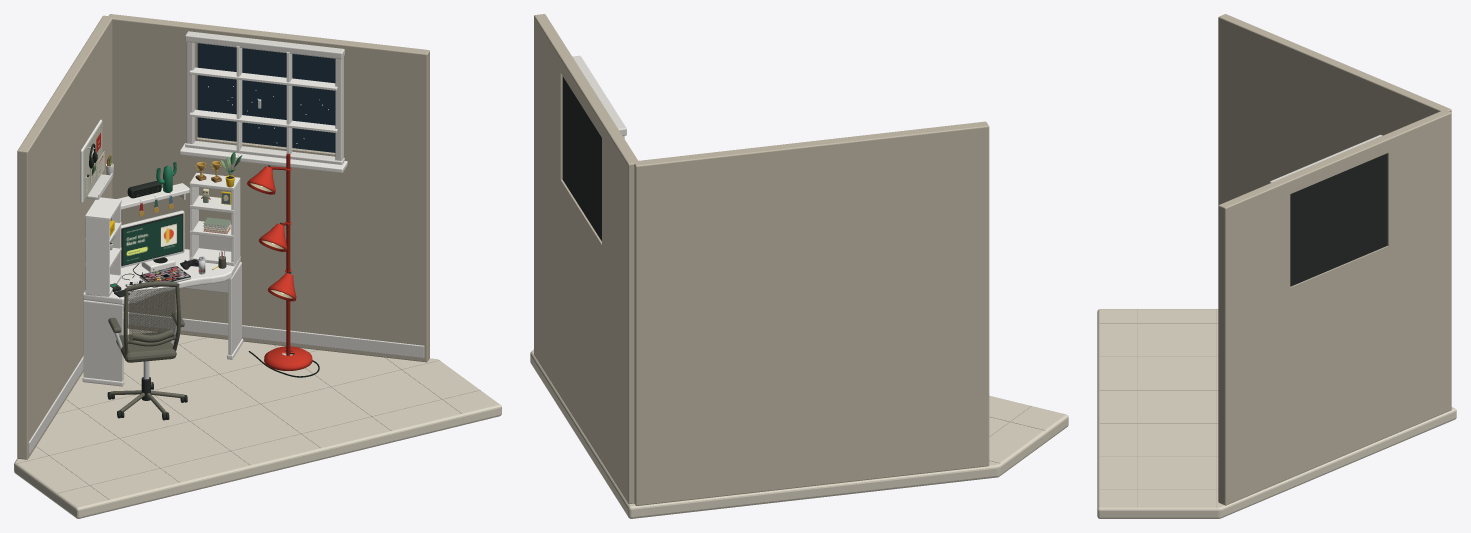
File: workspace-saved.glb
3 views of the same model, side by side, from view 1: azimuth 30°, elevation 25°; view 2: azimuth 150°, elevation 25°; view 3: azimuth 270°, elevation 25° (orthographic). The views are drawn at different scales.
Visible parts, largest first — view 1: _static · Limewashed plaster, Room floor, window_glass, _static · Warm powder-coated white, chair · Chair woven frame, window · Porcelain edges, window · Warm powder-coated white, workspace_left_wing · Porcelain edges, _static · Porcelain edges, workspace_right_wing · Porcelain edges, monitor_screen, Chair breathable mesh (+4 smaller); view 2: _static · Limewashed plaster, Room floor, Window deep recess, window · Warm powder-coated white; view 3: _static · Limewashed plaster, Room floor, Window deep recess, _static · Tile grout.
Part boxes in pixels (left/top/right/bottom): _static · Limewashed plaster: left=17, top=14, right=429, bottom=459; Room floor: left=14, top=328, right=501, bottom=518; window_glass: left=198, top=43, right=335, bottom=152; _static · Warm powder-coated white: left=28, top=194, right=424, bottom=454; chair · Chair woven frame: left=108, top=281, right=184, bottom=414; window · Porcelain edges: left=180, top=46, right=347, bottom=172; window · Warm powder-coated white: left=185, top=31, right=344, bottom=164; workspace_left_wing · Porcelain edges: left=80, top=119, right=121, bottom=296; _static · Porcelain edges: left=82, top=183, right=243, bottom=386; workspace_right_wing · Porcelain edges: left=189, top=172, right=240, bottom=266; monitor_screen: left=123, top=215, right=182, bottom=264; Chair breathable mesh: left=129, top=287, right=175, bottom=340; _static · Limewashed plaster: left=534, top=14, right=989, bottom=505; Room floor: left=530, top=350, right=1068, bottom=518; Window deep recess: left=562, top=76, right=601, bottom=241; window · Warm powder-coated white: left=572, top=55, right=626, bottom=138; _static · Limewashed plaster: left=1218, top=14, right=1451, bottom=505; Room floor: left=1097, top=309, right=1456, bottom=518; Window deep recess: left=1290, top=153, right=1387, bottom=286; _static · Tile grout: left=1100, top=309, right=1420, bottom=507.
Size of the model in its own units: 6.64 by 4.76 by 5.02.
61 materials, 10 textured.
